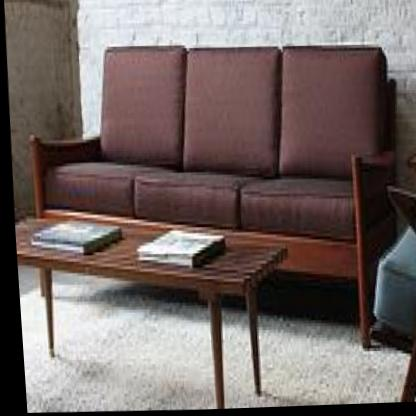Carpet: (15, 276, 208, 412)
Sofa: (18, 32, 414, 364)
Table: (12, 215, 292, 416)
